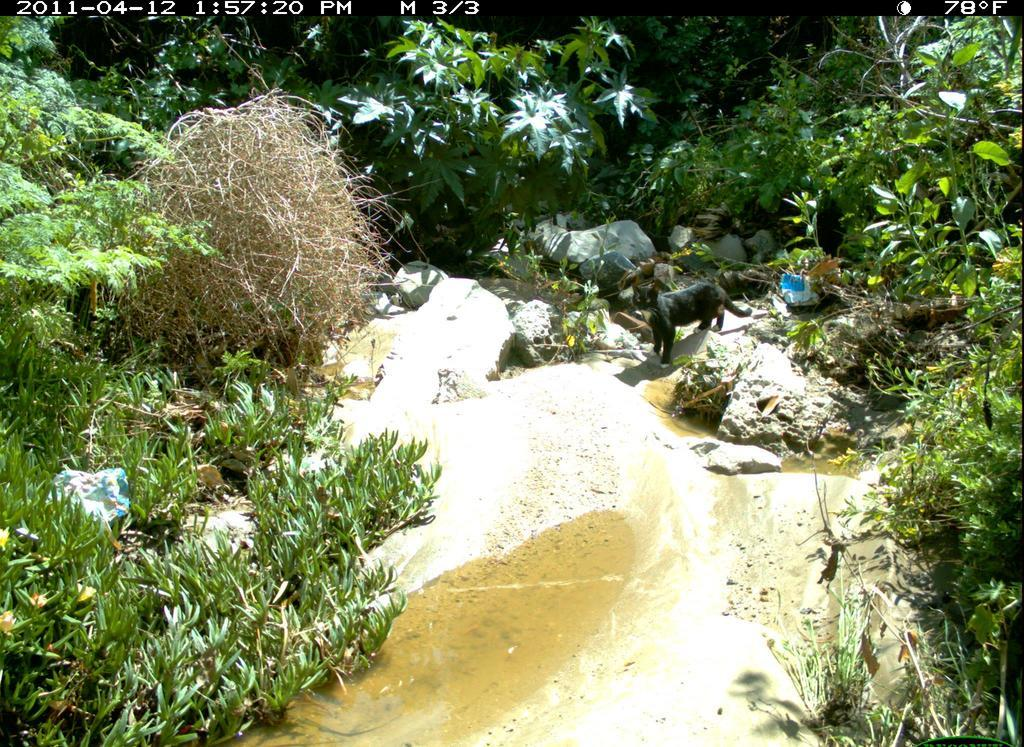cat: (632, 278, 756, 372)
